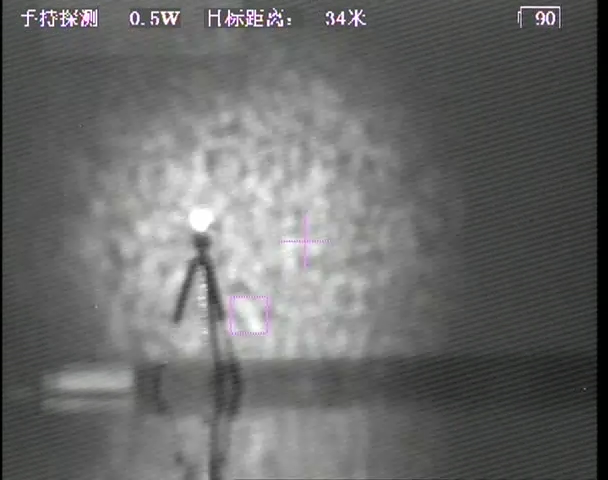my: (186, 206, 214, 232)
